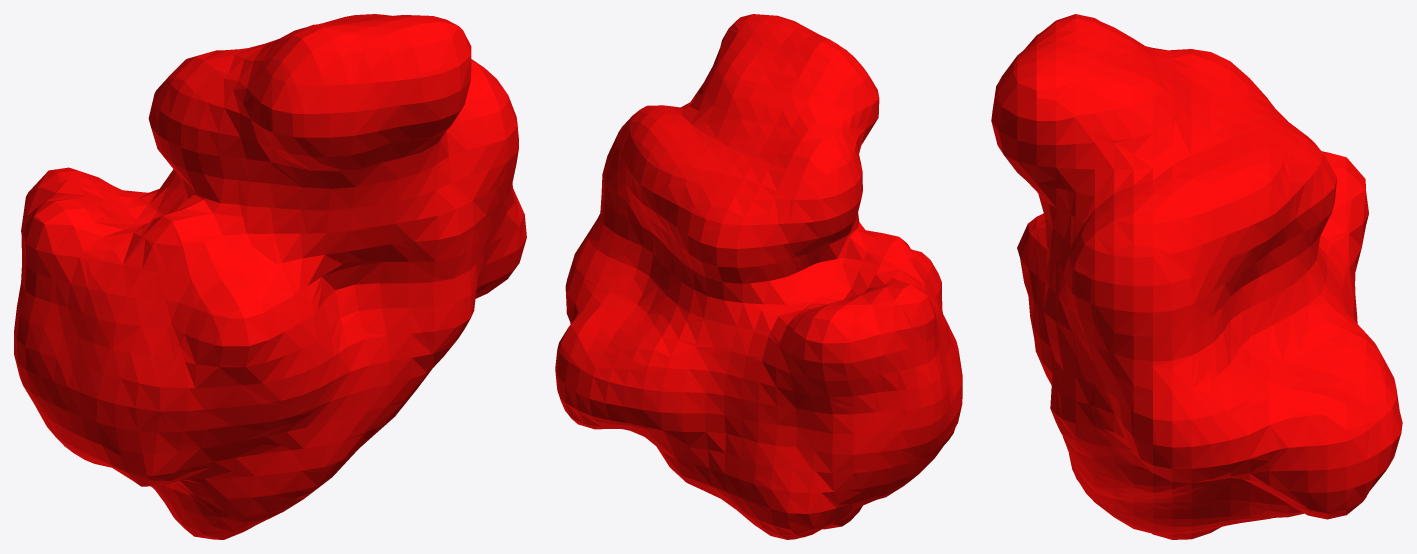
File: crl_coarse.dae
3 renders of one model, left to right at view 1: azimuth 30°, elevation 25°; view 2: azimuth 150°, elevation 25°; view 3: azimuth 270°, elevation 25°, orthographic. The views are drawn at different scales.
Parts seen in each view (by area): view 1: crl; view 2: crl; view 3: crl.
Part boxes in pixels (x1,y1,x2,y2): crl: (14, 14, 526, 539); crl: (555, 14, 962, 539); crl: (991, 14, 1402, 539).
Size of the model in its own units: 47.29 by 51.15 by 34.9.
